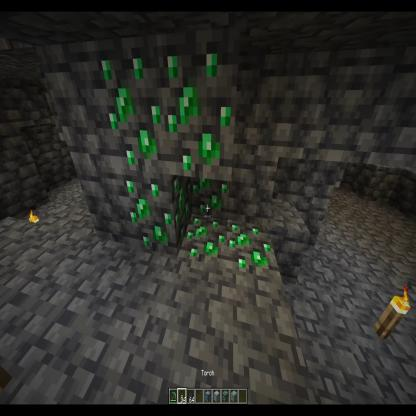emerald ore: (156, 42, 240, 180), (95, 36, 167, 184), (124, 172, 190, 260), (174, 215, 232, 273), (226, 218, 280, 278), (185, 174, 230, 221)
